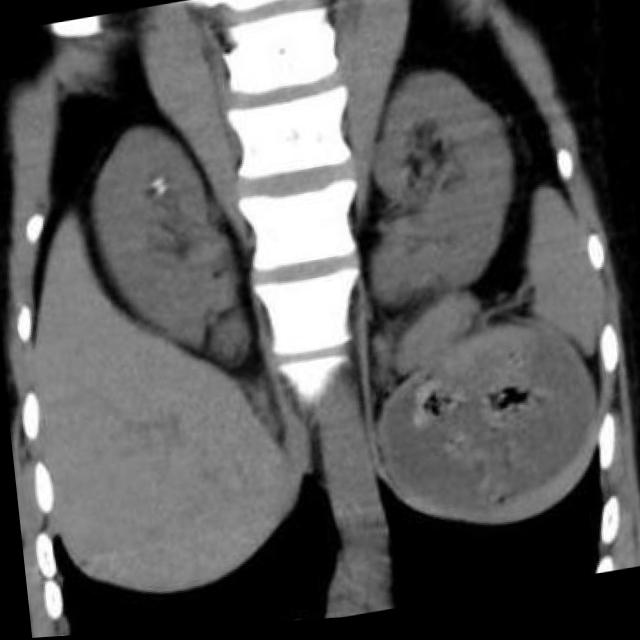Tas_Var: (147, 179, 167, 192), (152, 189, 166, 201)
